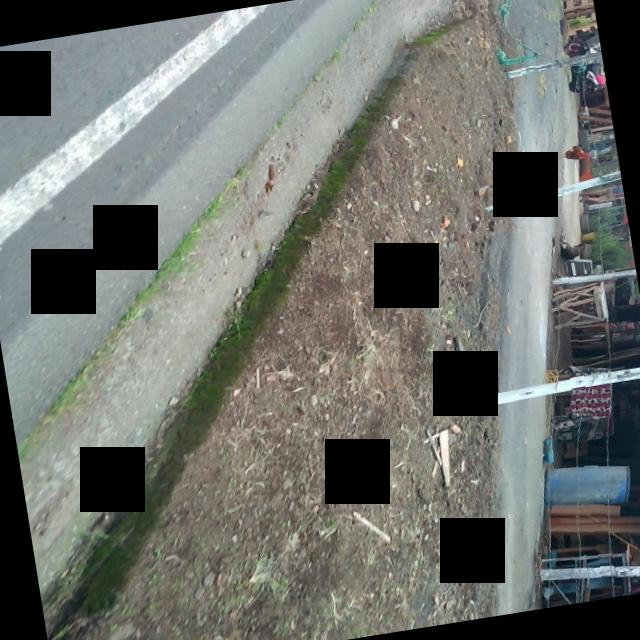DITCH: (0, 0, 617, 640), (0, 0, 603, 640)
